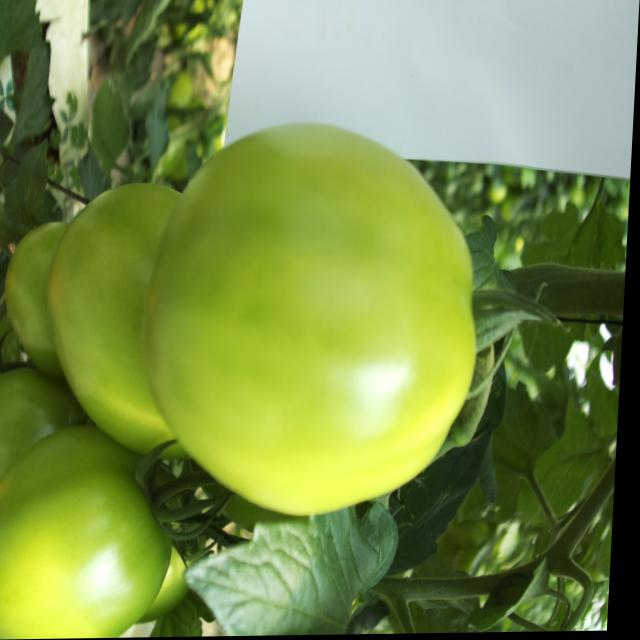yesil: (112, 86, 533, 550)
